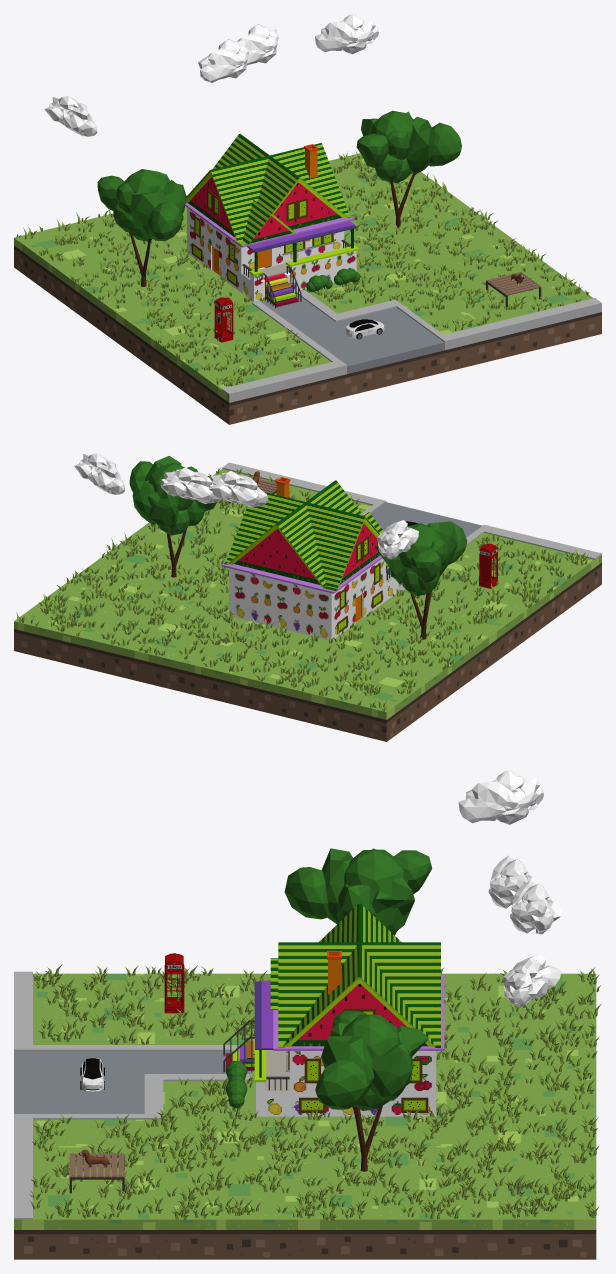
The picture shows the model from 3 angles, top to bottom: view 1: azimuth 30°, elevation 25°; view 2: azimuth 150°, elevation 25°; view 3: azimuth 270°, elevation 25°; orthographic projection. The views are drawn at different scales.
Parts seen in each view (by area): view 1: Cube.006, Cube.1063, Circle.012_Grass_0.192, Cube.007, tree, tree.001, OBJRANDOM_PHONEBOOTH, Cube.009, VEHICLES_TESLA; view 2: Cube.006, Cube.1063, Circle.012_Grass_0.192, Cube.007, tree.001, tree, OBJRANDOM_PHONEBOOTH; view 3: Cube.006, Circle.012_Grass_0.192, Cube.1063, tree, Cube.007, tree.001, Cube.009, OBJRANDOM_PHONEBOOTH, VEHICLES_TESLA.
Boxes of the visible parts, bbox=[...] form: Cube.006: bbox=[14, 153, 601, 424]; Cube.1063: bbox=[185, 134, 359, 308]; Circle.012_Grass_0.192: bbox=[16, 150, 588, 386]; Cube.007: bbox=[44, 14, 378, 136]; tree: bbox=[356, 110, 461, 228]; tree.001: bbox=[97, 169, 186, 286]; OBJRANDOM_PHONEBOOTH: bbox=[214, 297, 233, 342]; Cube.009: bbox=[486, 272, 541, 306]; VEHICLES_TESLA: bbox=[345, 319, 384, 339]; Cube.006: bbox=[14, 462, 601, 741]; Cube.1063: bbox=[221, 477, 398, 640]; Circle.012_Grass_0.192: bbox=[16, 468, 588, 711]; Cube.007: bbox=[74, 453, 418, 559]; tree.001: bbox=[375, 521, 467, 639]; tree: bbox=[129, 456, 216, 577]; OBJRANDOM_PHONEBOOTH: bbox=[478, 543, 498, 588]; Cube.006: bbox=[14, 971, 596, 1259]; Circle.012_Grass_0.192: bbox=[29, 964, 601, 1220]; Cube.1063: bbox=[223, 903, 444, 1116]; tree: bbox=[315, 1010, 428, 1171]; Cube.007: bbox=[458, 770, 561, 1007]; tree.001: bbox=[284, 848, 432, 935]; Cube.009: bbox=[69, 1153, 124, 1193]; OBJRANDOM_PHONEBOOTH: bbox=[164, 953, 184, 1013]; VEHICLES_TESLA: bbox=[80, 1058, 104, 1091].
Bounding box in the file's own units: 4071 × 2277 × 4040.
Materials: 38 (5 with a texture image).
